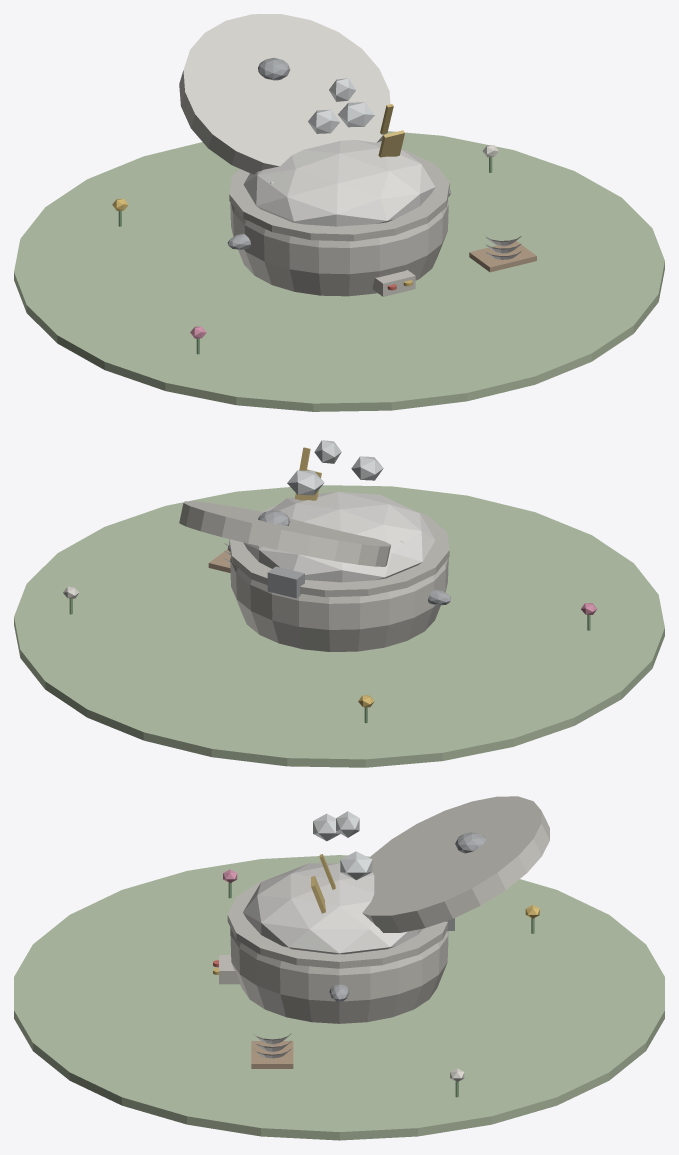
Rendered from ricecooker.glb.
3 renders of one model, top to bottom at view 1: azimuth 30°, elevation 25°; view 2: azimuth 150°, elevation 25°; view 3: azimuth 270°, elevation 25°, orthographic.
Parts seen in each view (by area): view 1: part_03, part_10, part_16, part_04, part_11, part_02, part_01, part_06; view 2: part_03, part_10, part_16, part_04, part_11, part_01; view 3: part_03, part_10, part_16, part_04, part_11, part_02, part_01.
Part boxes in pixels (<box>): part_03: <box>14,131,664,411</box>; part_10: <box>179,14,448,296</box>; part_16: <box>243,140,435,226</box>; part_04: <box>229,149,449,241</box>; part_11: <box>308,78,374,133</box>; part_02: <box>469,241,536,272</box>; part_01: <box>227,57,450,249</box>; part_06: <box>372,270,415,296</box>; part_03: <box>14,485,664,767</box>; part_10: <box>179,501,448,651</box>; part_16: <box>243,491,435,582</box>; part_04: <box>229,505,449,597</box>; part_11: <box>287,440,383,495</box>; part_01: <box>227,510,451,605</box>; part_03: <box>14,855,664,1140</box>; part_10: <box>230,796,549,1023</box>; part_16: <box>243,863,422,954</box>; part_04: <box>227,879,447,968</box>; part_11: <box>313,811,372,880</box>; part_02: <box>251,1041,293,1068</box>; part_01: <box>329,832,486,1001</box>.
Size of the model in its own units: 15.6 by 5.02 by 15.49.
